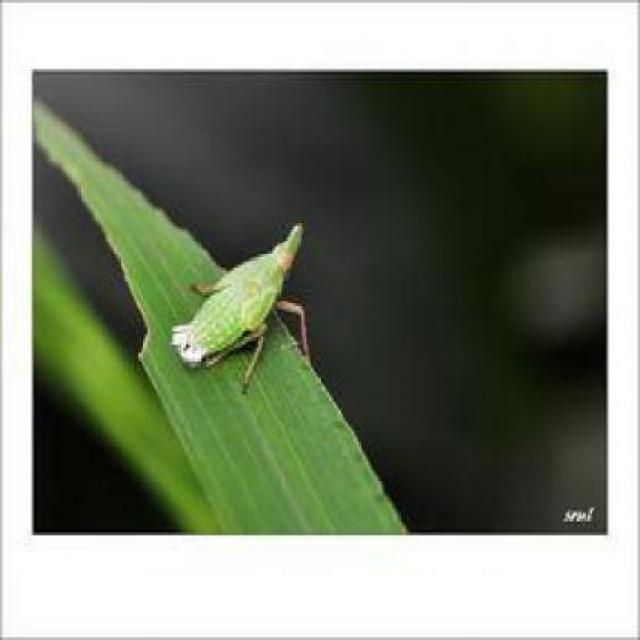green-leafhopper: (172, 222, 311, 390)
